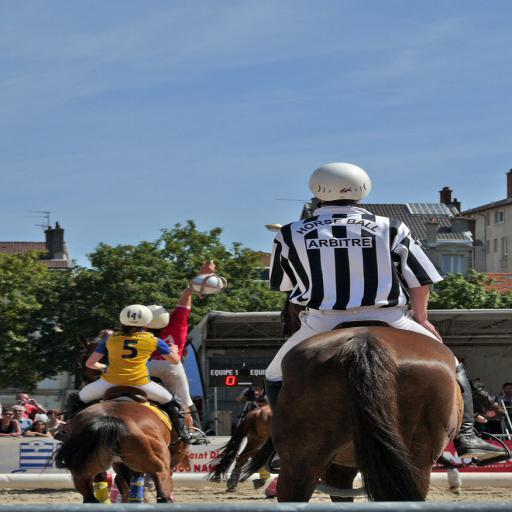horse: (272, 324, 466, 504), (40, 398, 192, 504), (200, 402, 274, 490)
